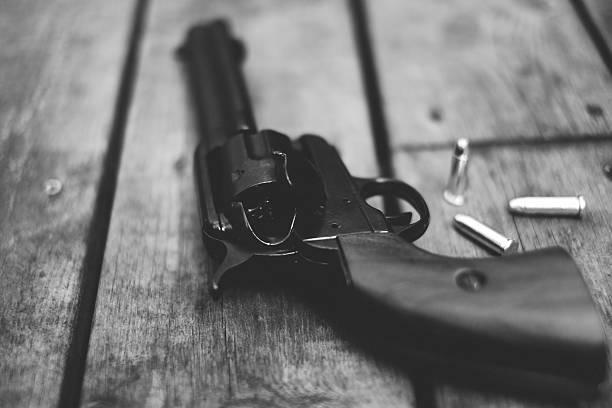pistol: (174, 13, 610, 394)
